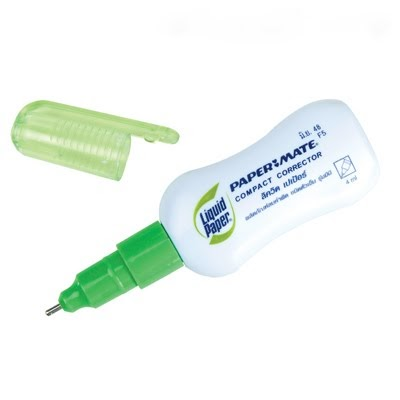Correction_fluid: (40, 97, 382, 323)
